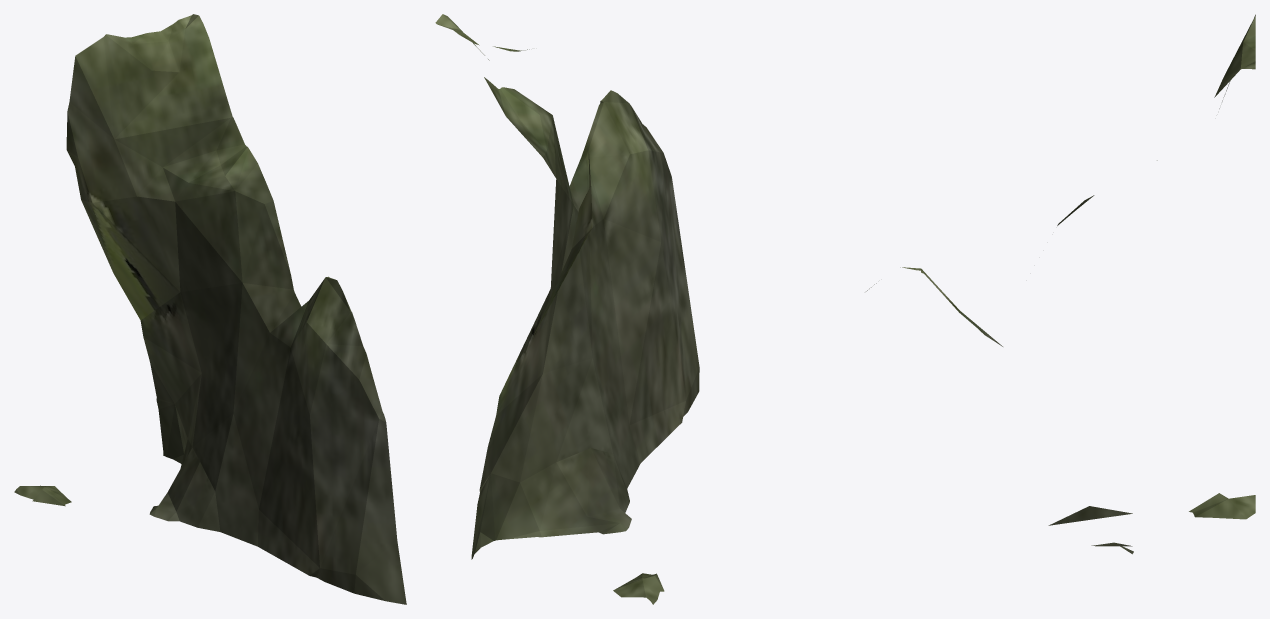
3 views of the same model, side by side, from view 1: azimuth 30°, elevation 25°; view 2: azimuth 150°, elevation 25°; view 3: azimuth 270°, elevation 25° (orthographic). The views are drawn at different scales.
Bounding box in the file's own units: 0.917 × 2.14 × 1.9.
1 material, 1 textured.
